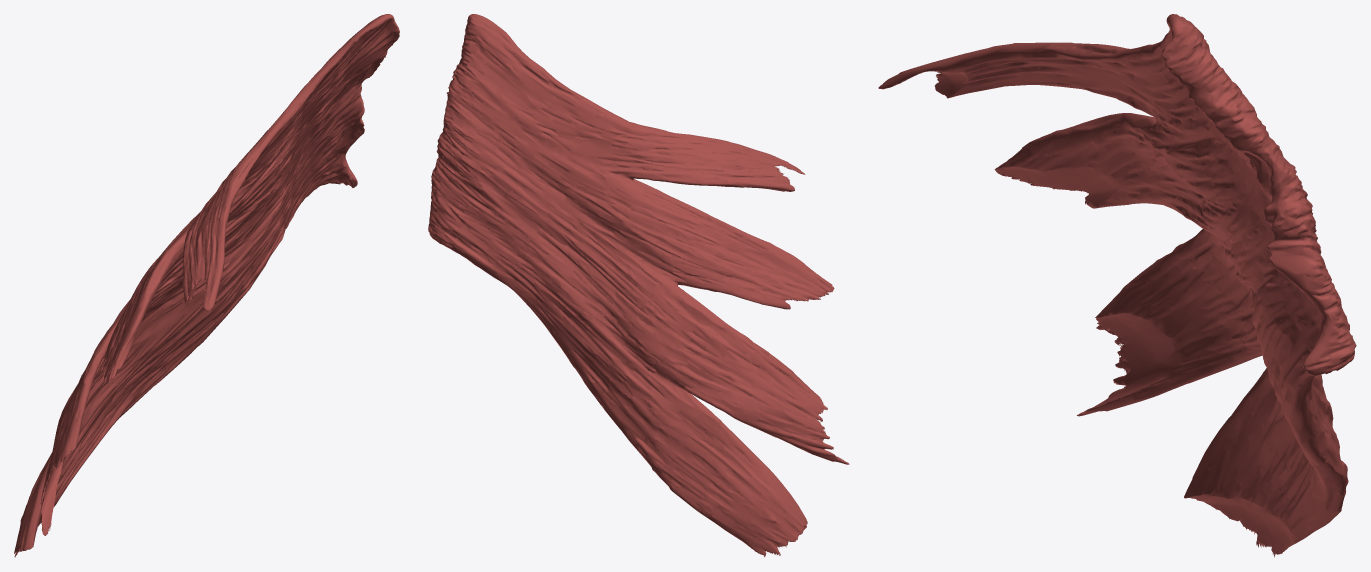
The model's file is FMA13403.glb.
The picture shows the model from 3 angles, left to right: view 1: azimuth 30°, elevation 25°; view 2: azimuth 150°, elevation 25°; view 3: azimuth 270°, elevation 25°; orthographic projection. The views are drawn at different scales.
Visible parts, largest first — view 1: FMA13403; view 2: FMA13403; view 3: FMA13403.
Part boxes in pixels (x1,y1,x2,y2): FMA13403: (14,14,399,557); FMA13403: (428,14,849,557); FMA13403: (878,14,1356,557).
Bounding box in the file's own units: 0.1023 × 0.1221 × 0.0644.
